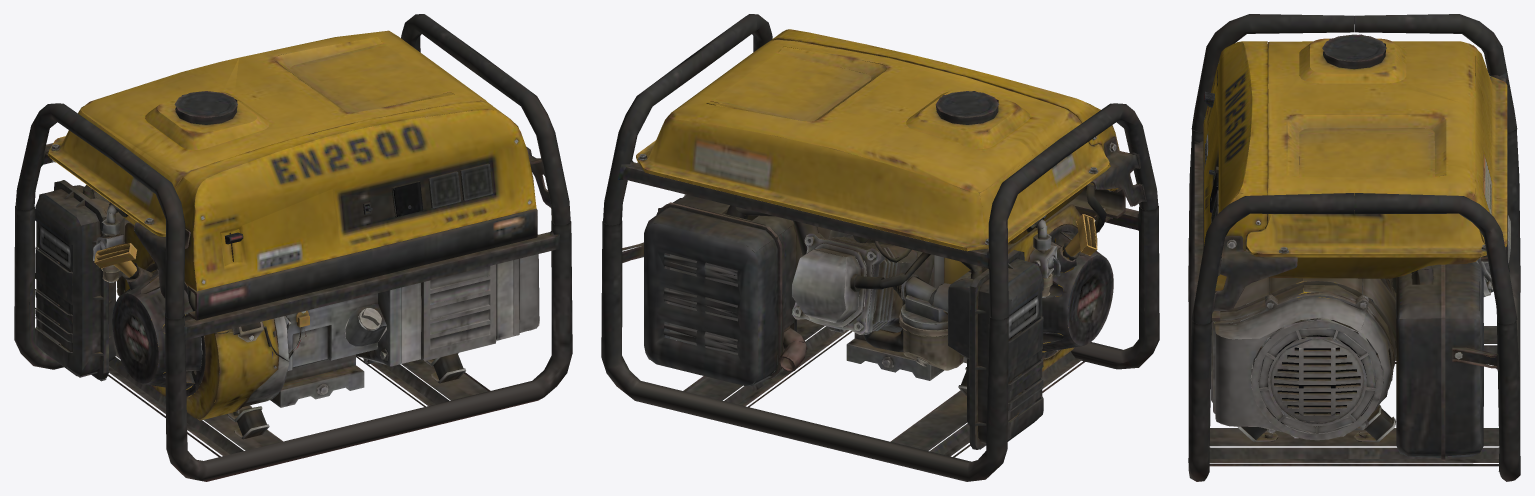
Rendered from distance.fbx.
3 views of the same model, side by side, from view 1: azimuth 30°, elevation 25°; view 2: azimuth 150°, elevation 25°; view 3: azimuth 270°, elevation 25° (orthographic).
Parts seen in each view (by area): view 1: portable_generator; view 2: portable_generator; view 3: portable_generator.
Part boxes in pixels (x1,y1,x2,y2): portable_generator: [14, 14, 572, 481]; portable_generator: [601, 14, 1159, 481]; portable_generator: [1188, 14, 1520, 481].
Bounding box in the file's own units: 81.82 × 57.66 × 56.42.
